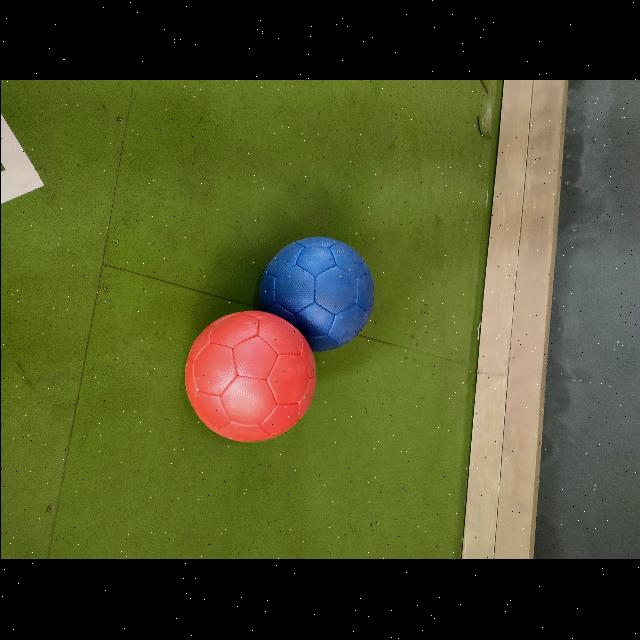B: (256, 236, 375, 354)
R: (185, 311, 316, 447)
